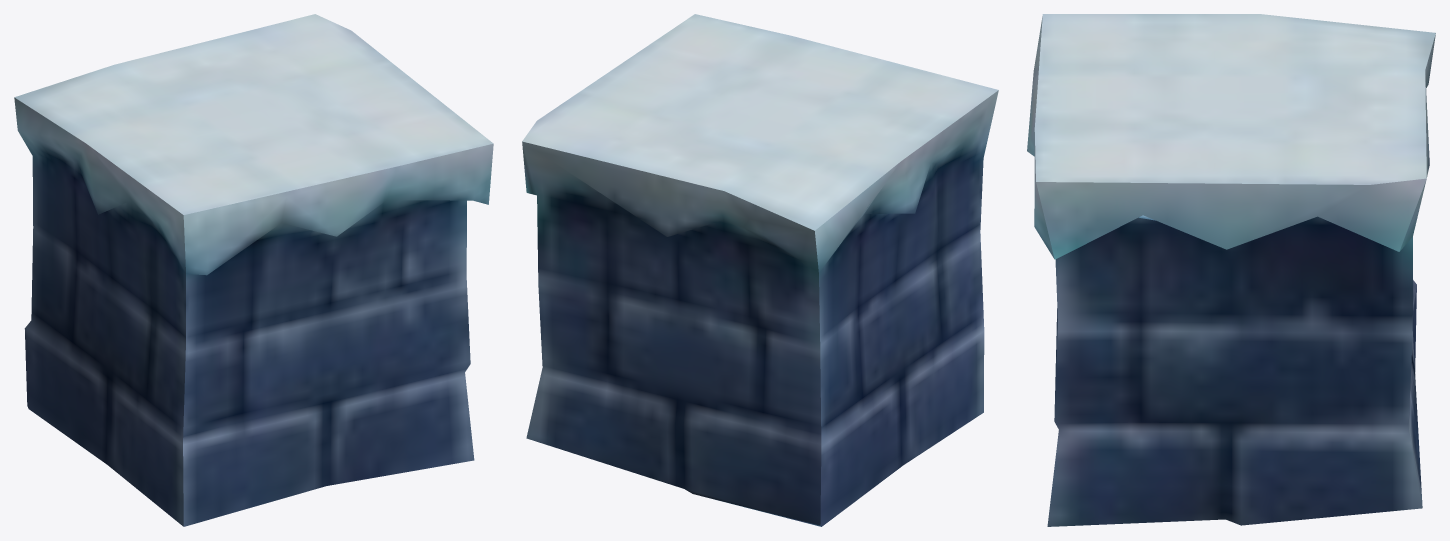
Rendered from b_givre_mur_1_lod1.glb.
3 views of the same model, side by side, from view 1: azimuth 30°, elevation 25°; view 2: azimuth 150°, elevation 25°; view 3: azimuth 270°, elevation 25° (orthographic). The views are drawn at different scales.
Parts seen in each view (by area): view 1: geometry_0; view 2: geometry_0; view 3: geometry_0.
Part boxes in pixels (bbox=[...]): geometry_0: bbox=[14, 14, 493, 526]; geometry_0: bbox=[522, 14, 998, 526]; geometry_0: bbox=[1027, 14, 1435, 526].
Size of the model in its own units: 1 by 0.959 by 1.
1 material, 1 textured.
